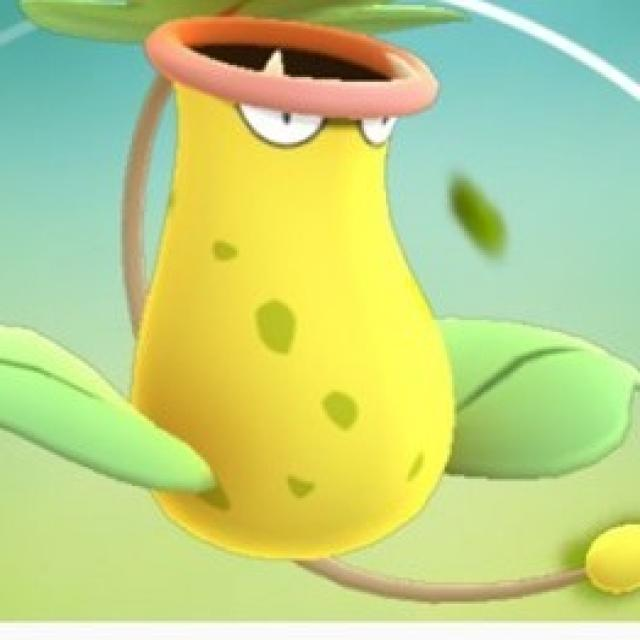Victreebel: (132, 17, 462, 567)
